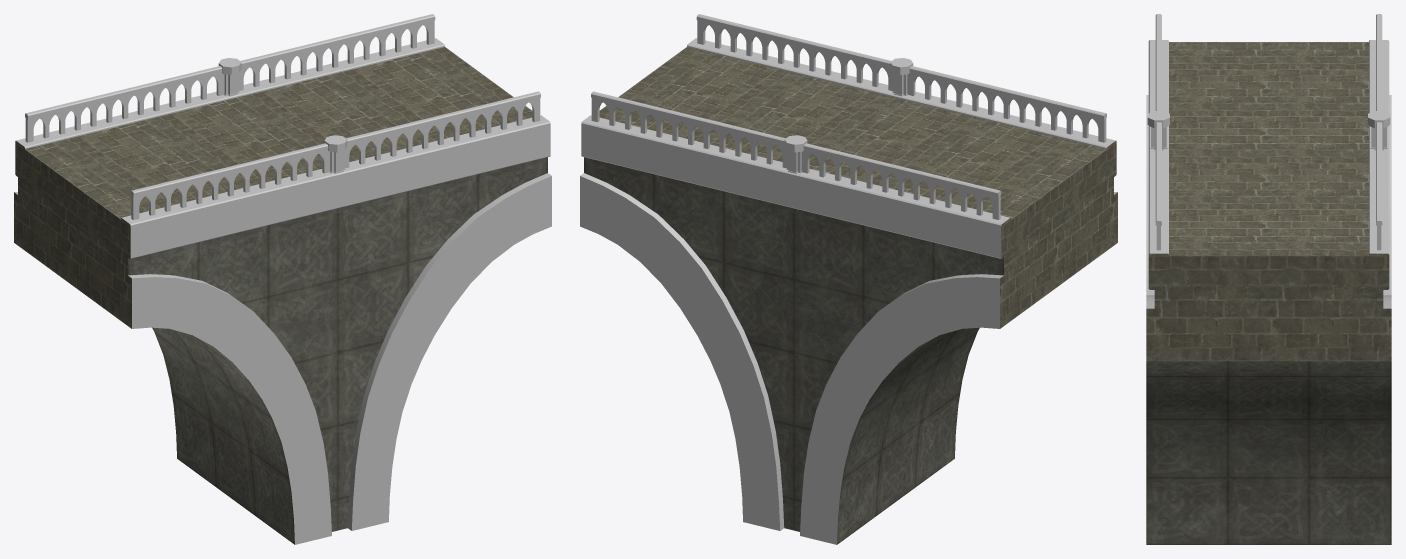
Rendered from bridge_mid_02.fbx.
3 views of the same model, side by side, from view 1: azimuth 30°, elevation 25°; view 2: azimuth 150°, elevation 25°; view 3: azimuth 270°, elevation 25° (orthographic). The views are drawn at different scales.
Visible parts, largest first — view 1: bridge_mid_02; view 2: bridge_mid_02; view 3: bridge_mid_02.
Part boxes in pixels (box(x1,y1,x2,y2)): bridge_mid_02: box(14, 14, 551, 544); bridge_mid_02: box(580, 14, 1117, 544); bridge_mid_02: box(1146, 14, 1391, 544).
Size of the model in its own units: 1600 by 1416 by 777.
